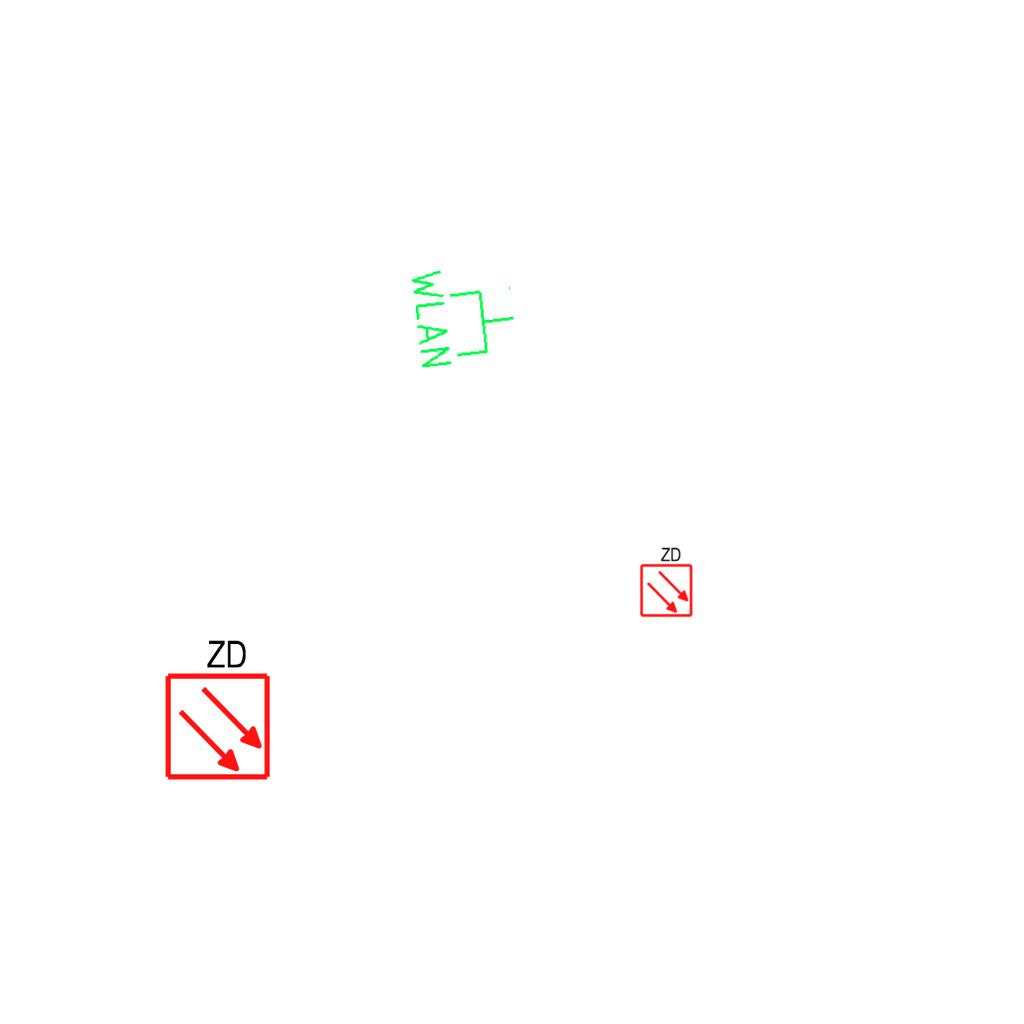WLAN: (405, 256, 523, 373)
ZD_Melder_in_Zwischendecke_mit_Revisionsoeffnung_mind_40_x_40_cm: (159, 633, 273, 782), (637, 544, 694, 618)
